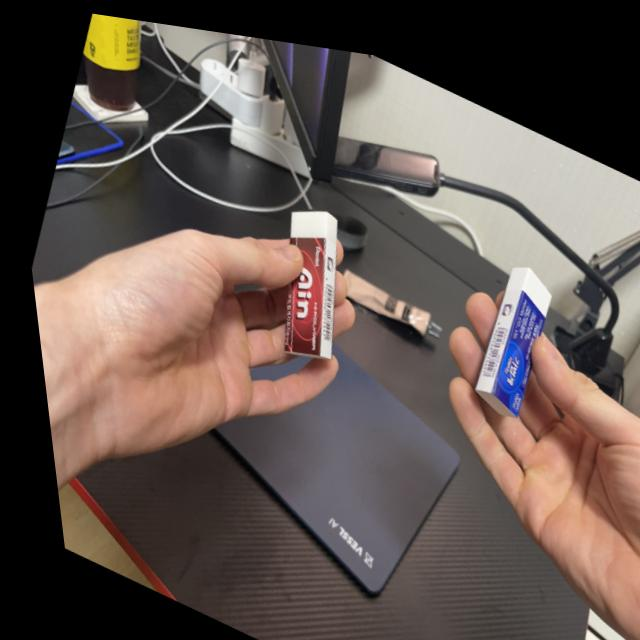blue: (435, 219, 577, 439)
red: (230, 174, 384, 382)
